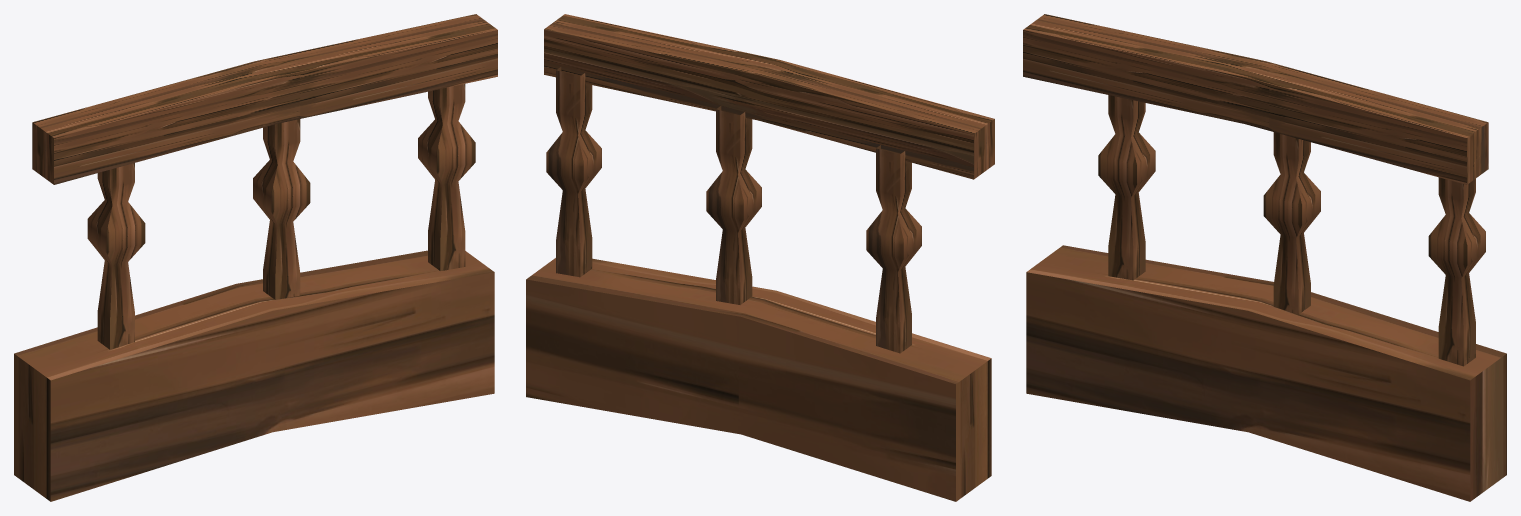
Rendered from Railing_3.fbx.
3 renders of one model, left to right at view 1: azimuth 30°, elevation 25°; view 2: azimuth 150°, elevation 25°; view 3: azimuth 330°, elevation 25°, orthographic. The views are drawn at different scales.
Parts seen in each view (by area): view 1: 1_Railing_3; view 2: 1_Railing_3; view 3: 1_Railing_3.
Boxes of the visible parts, x1,y1,x2,y2 form: 1_Railing_3: (14,14,497,501); 1_Railing_3: (526,14,994,501); 1_Railing_3: (1023,14,1506,501).
Bounding box in the file's own units: 136 × 109 × 21.22.
